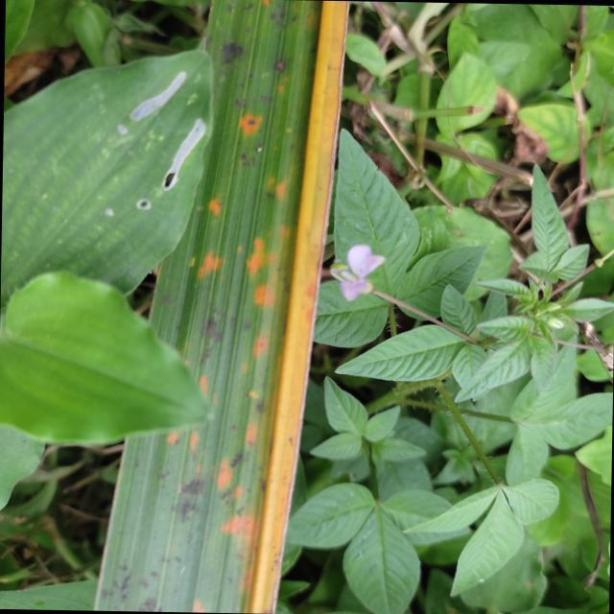Megnesium: (94, 0, 352, 614)
